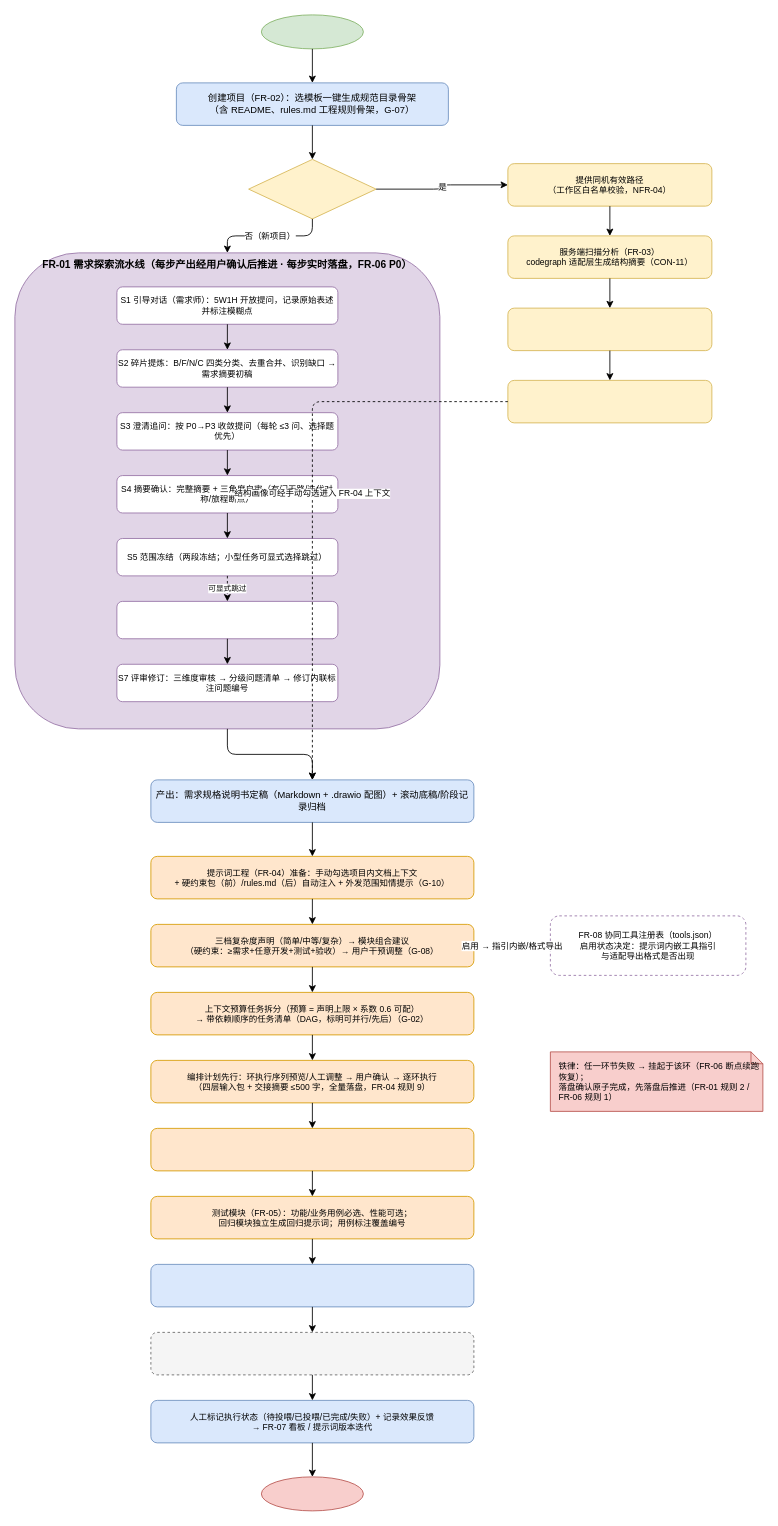
Image size: 778x1526. Some labels were removed from this diagram. The centre of each missing label's shape, as x and y in pixels:
S6 文档编写：编号追溯链 B→F→FR、可选 EARS、.drawio 配图（CON-12）: point 227,620
交付：一键复制 / 导出文件（可选 FR-08 SDD 适配格式） / 按项目归档提示词库（FR-07）: point 312,1285
人工确认 → 整改方案 （画像与报告归档 analysis/）: point 609,401
存量项目？: point 312,189
开始: point 312,31
投喂外部 IDE Agent 执行（Trae/Cursor/Codex 等） 可并行使用协同工具（CON-13）: point 312,1353
结束: point 312,1493
结构画像 + 分级规整建议 （自动归位=低风险 / 需人工决策）: point 609,329
逐条预览微调 → 定稿联动（摘要过期提示/一键重生成 AC-16） → 脱敏扫描（密钥/密码/内网地址）→ 定稿归档: point 312,1149
